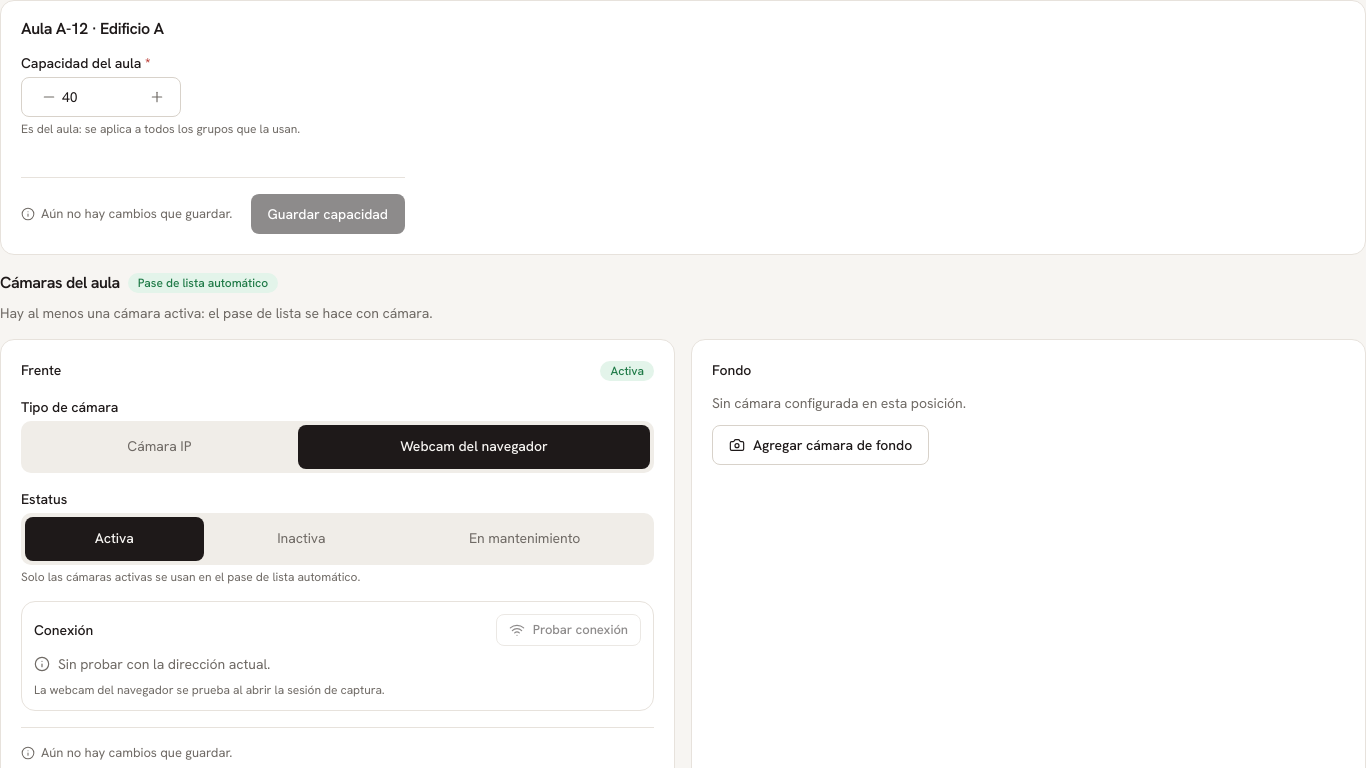
Test case: AulaCamaras › cancelar el panel con cambios pide confirmar y sin cambios cierra directo
This screenshot has width=1366, height=768.
Click the button "Agregar cámara de fondo": (821, 445) top-left (712, 425), bottom-right (929, 465)
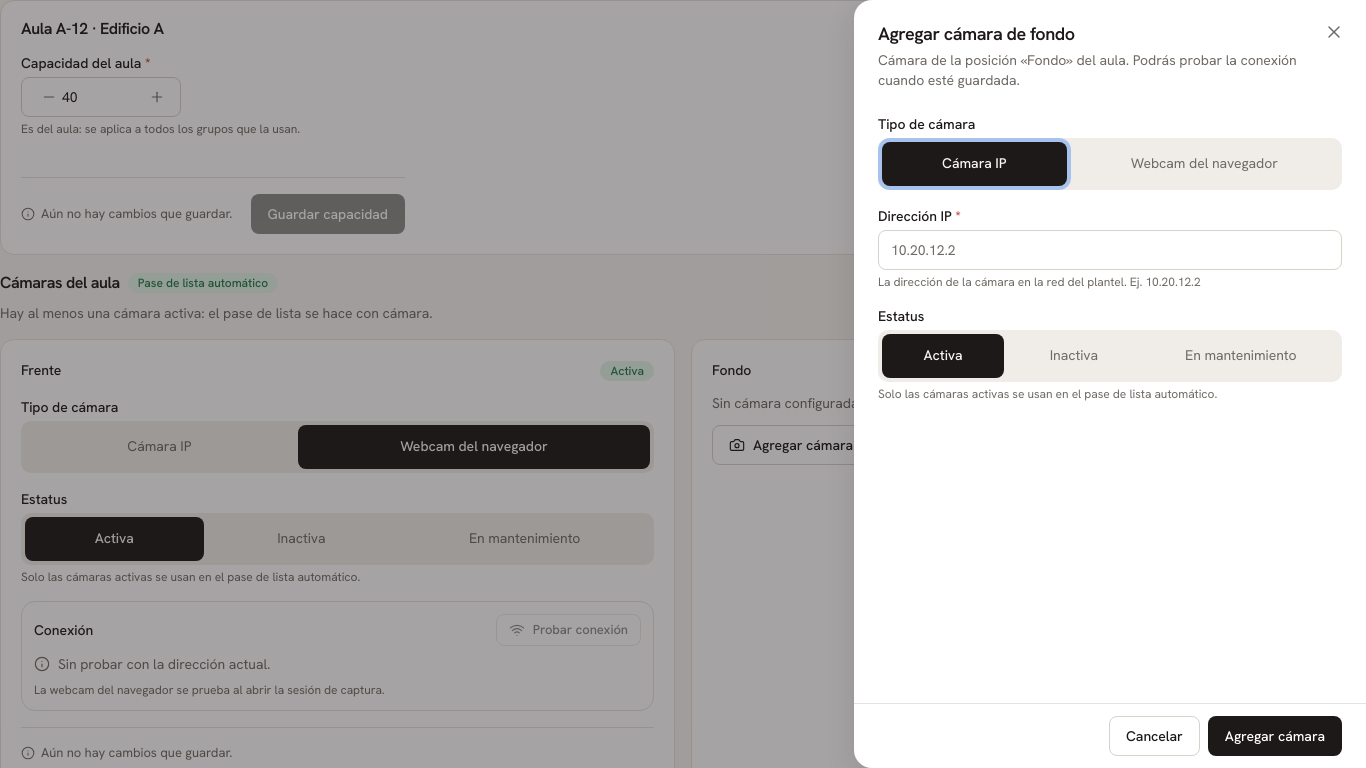
Click the button "Cancelar": (1154, 736) top-left (1109, 716), bottom-right (1200, 756)
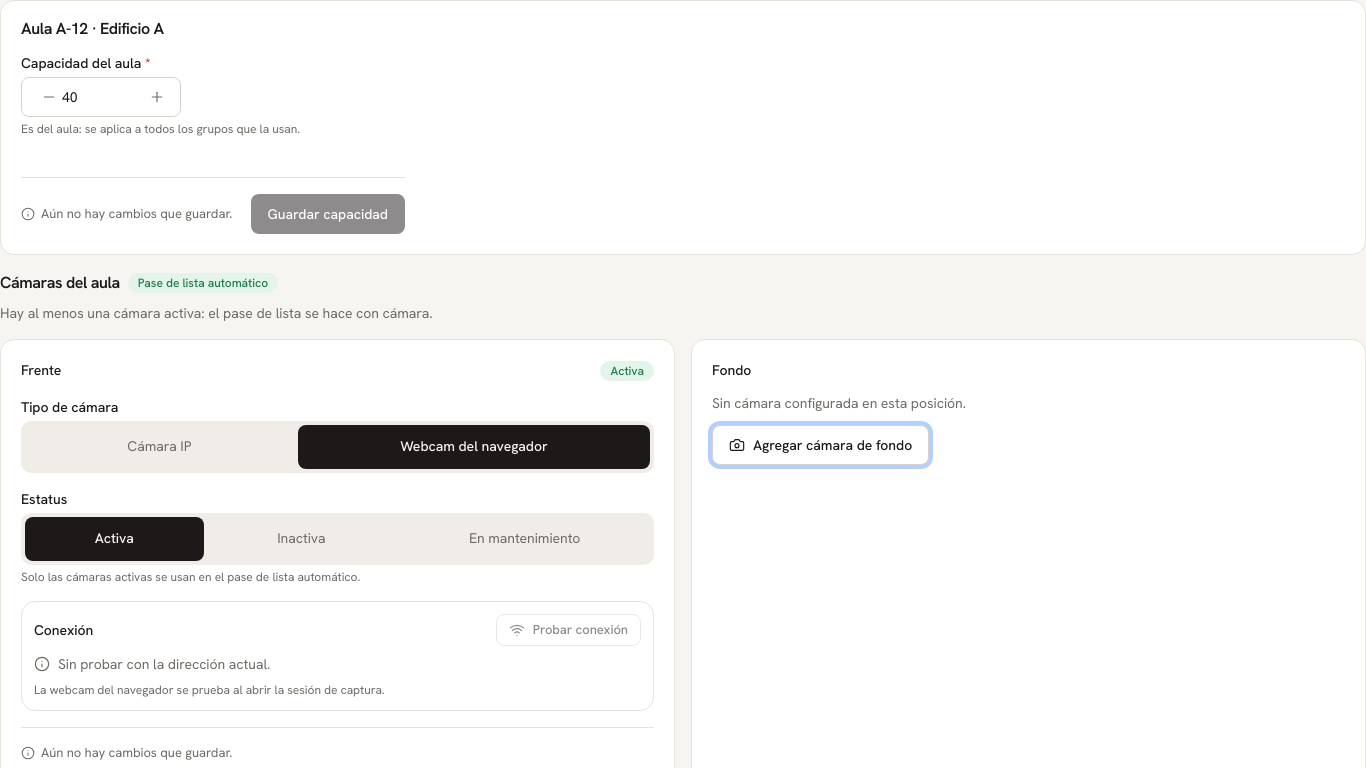
Click the button "Agregar cámara de fondo": (821, 445) top-left (712, 425), bottom-right (929, 465)
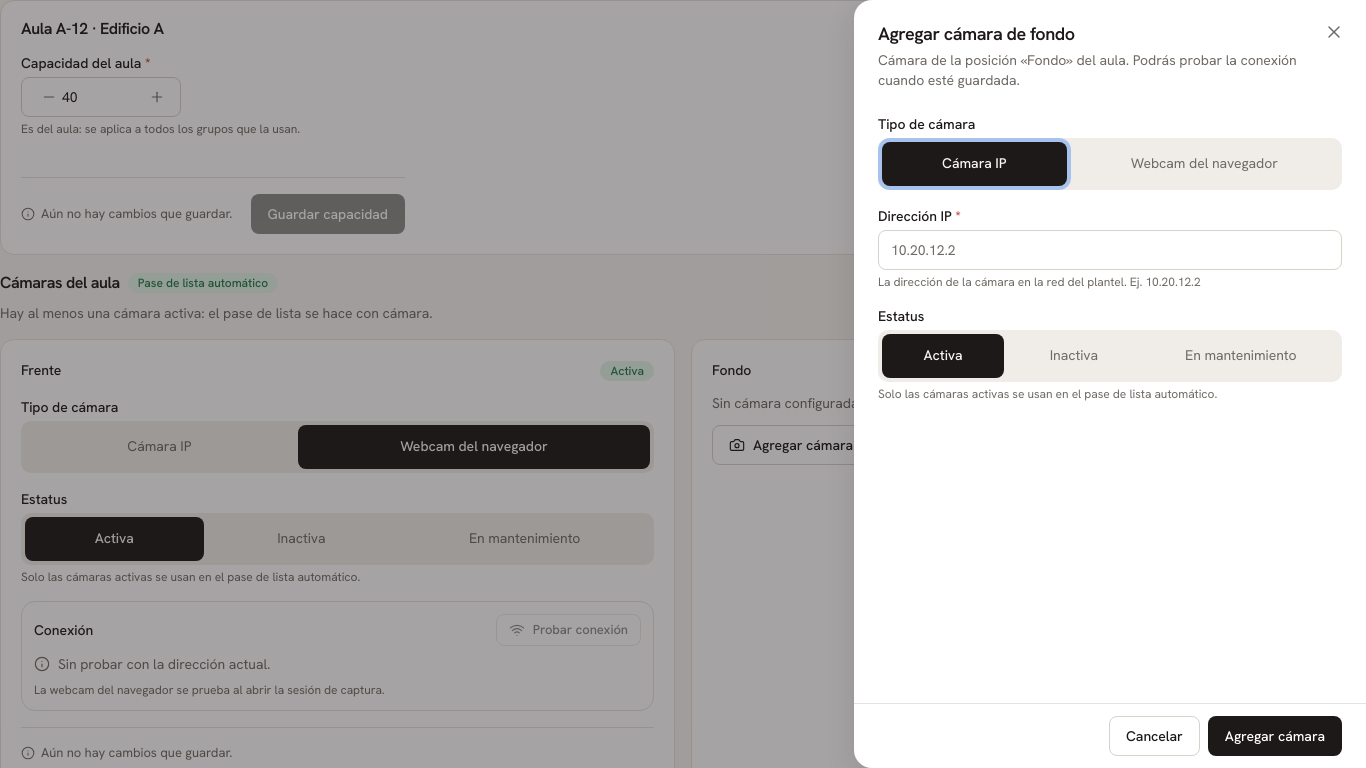
In the field labelled "Dirección IP *": (1110, 250) top-left (878, 230), bottom-right (1342, 270), type "10."
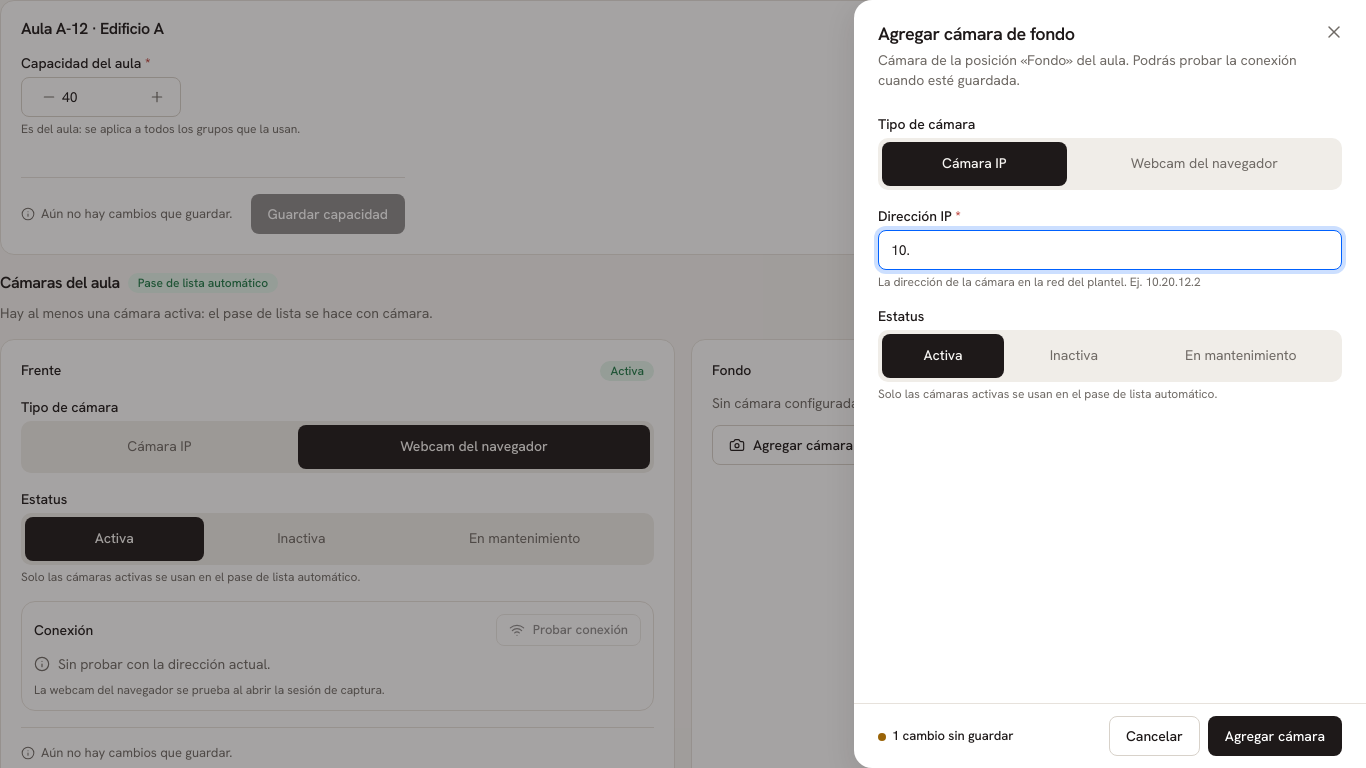
Click the button "Cancelar": (1154, 736) top-left (1109, 716), bottom-right (1200, 756)
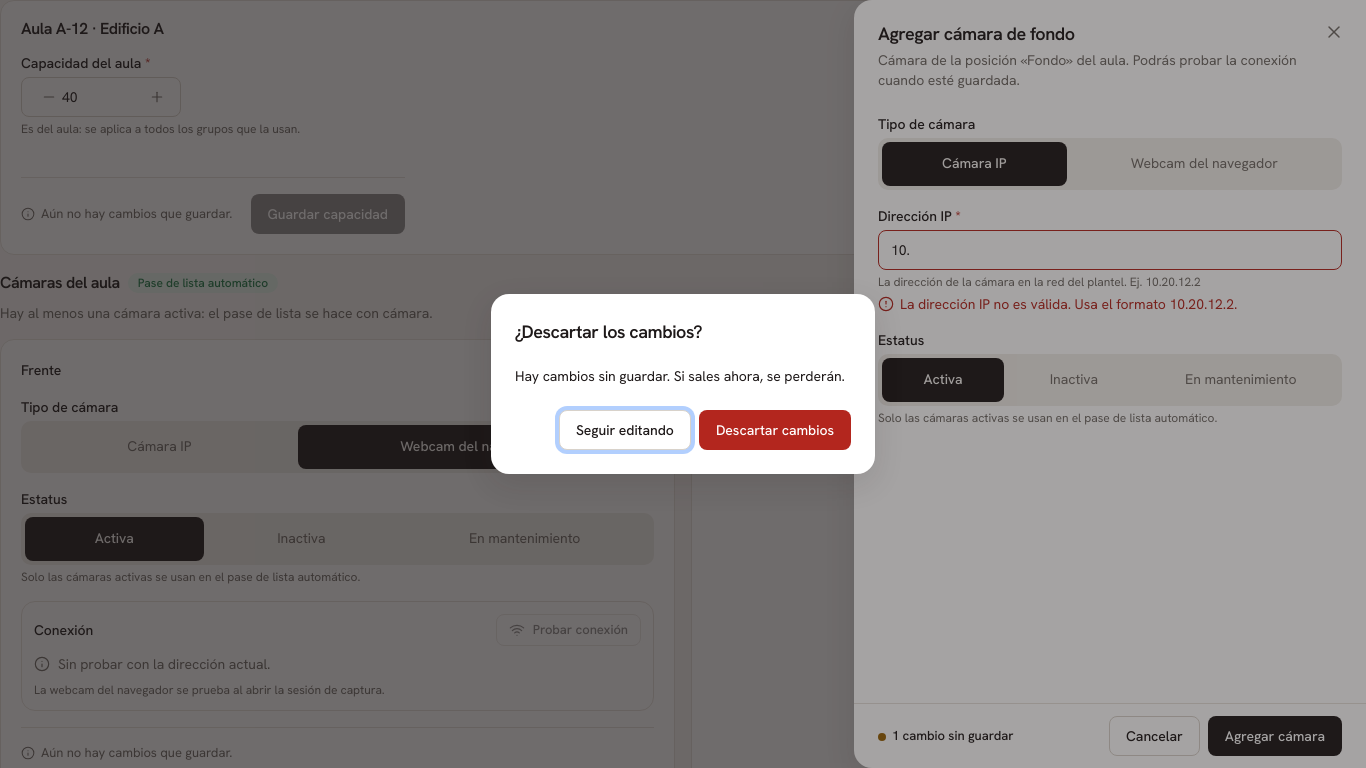
Now the heading "¿Descartar los cambios?" is shown, box top-left (515, 320), bottom-right (702, 343)
